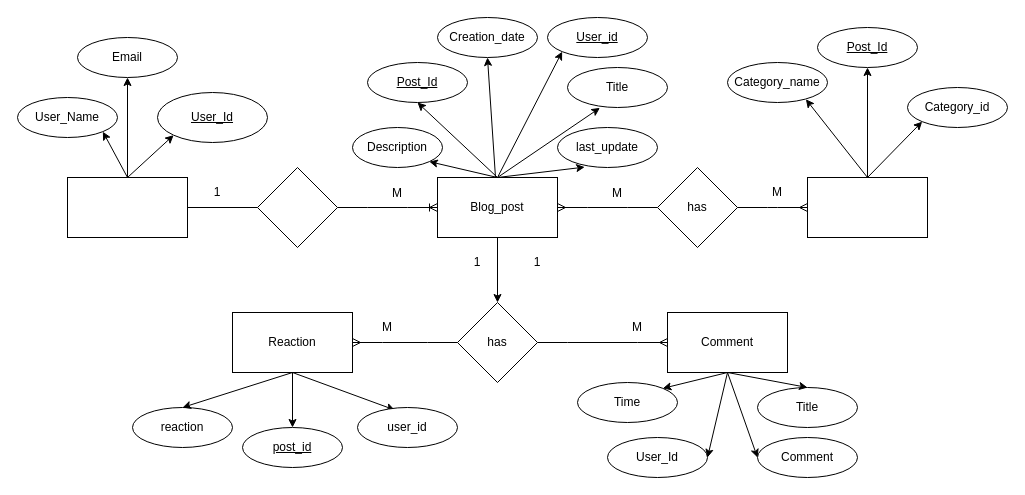
This 1025x495 diagram has some shape labels left out. Here are the shapes that lost their labels. From the top down, the centre of each, then its label:
[127,207]: User
[297,207]: Writes
[867,207]: Category
